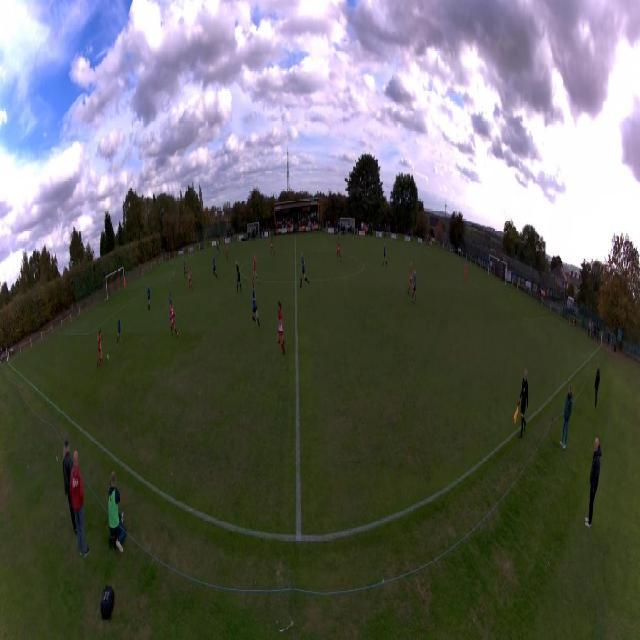ball: (107, 354, 109, 361)
player: (276, 301, 286, 356), (251, 282, 260, 330), (299, 252, 310, 289), (169, 299, 178, 338), (169, 292, 177, 322), (236, 260, 243, 294), (97, 329, 103, 368), (252, 252, 259, 283), (408, 263, 414, 295), (116, 316, 122, 346), (412, 269, 417, 304), (187, 266, 193, 292), (212, 255, 217, 280), (337, 237, 342, 261), (382, 243, 387, 267), (147, 282, 150, 311), (271, 236, 275, 255), (183, 260, 187, 279), (464, 261, 467, 281), (216, 244, 220, 258), (226, 245, 228, 262), (124, 276, 126, 291)
